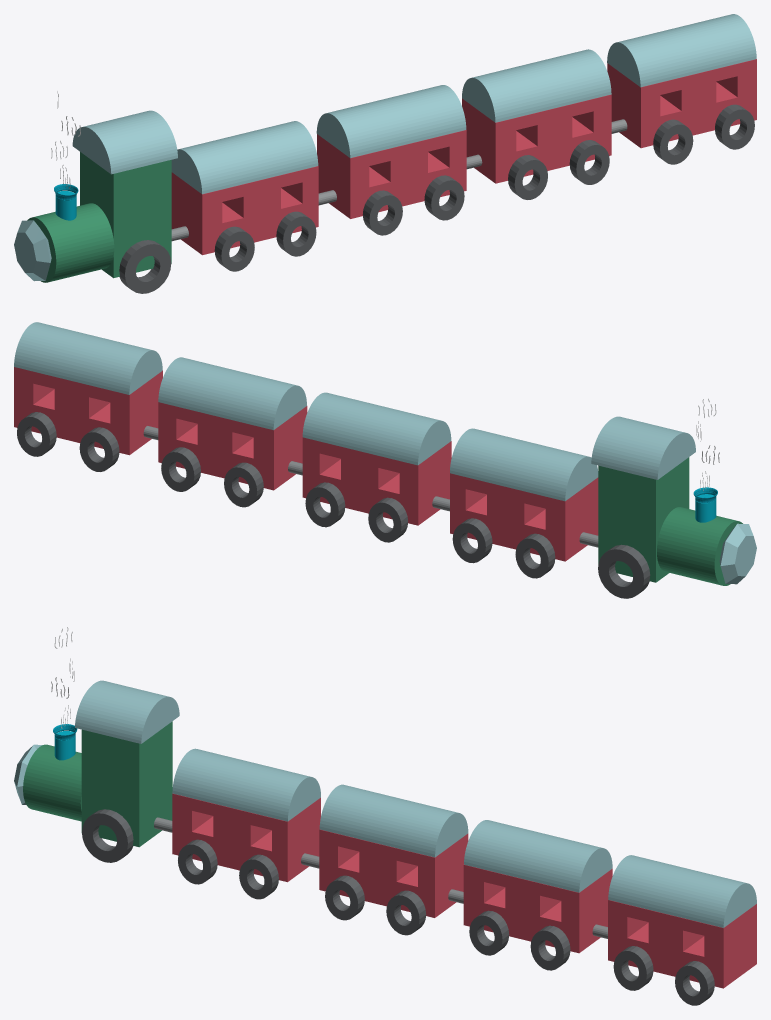
Rendered from train_gltf.glb.
The picture shows the model from 3 angles, top to bottom: view 1: azimuth 30°, elevation 25°; view 2: azimuth 150°, elevation 25°; view 3: azimuth 330°, elevation 25°; orthographic projection.
Visible parts, largest first — view 1: Mesh_Mesh_head_geo.001_lambert2SG.001; view 2: Mesh_Mesh_head_geo.001_lambert2SG.001; view 3: Mesh_Mesh_head_geo.001_lambert2SG.001.
Part boxes in pixels (left/top/right/bottom): Mesh_Mesh_head_geo.001_lambert2SG.001: left=14, top=14, right=756, bottom=293; Mesh_Mesh_head_geo.001_lambert2SG.001: left=14, top=322, right=756, bottom=598; Mesh_Mesh_head_geo.001_lambert2SG.001: left=14, top=627, right=756, bottom=1005.
Bounding box in the file's own units: 247 × 66.44 × 28.
